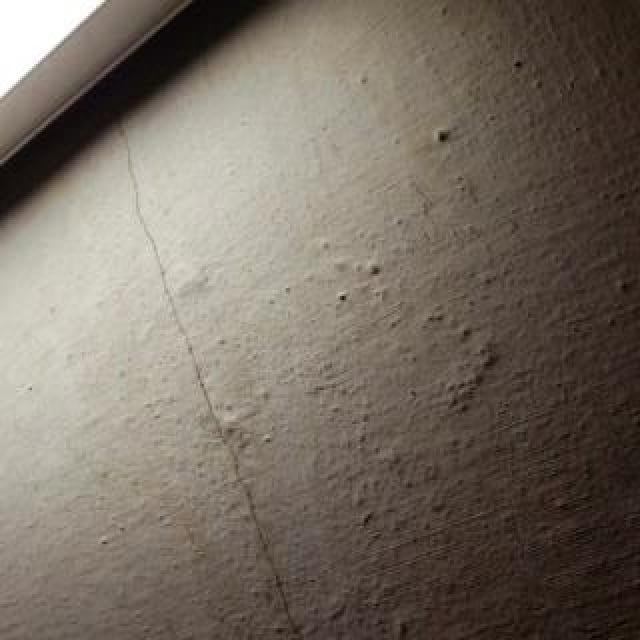fluorescent tube: (0, 0, 286, 640)
